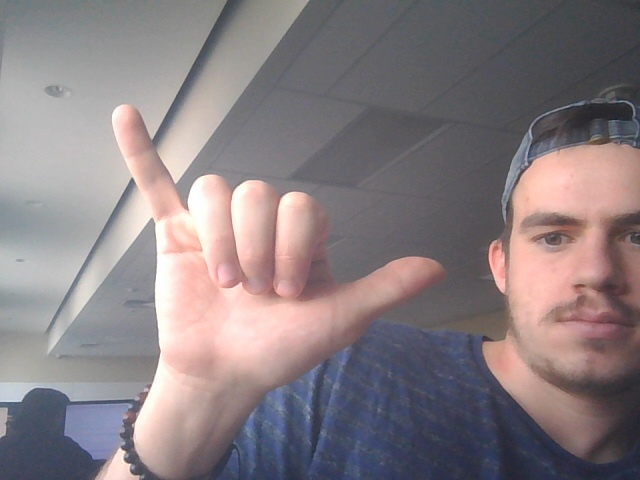birdsup: (96, 98, 458, 387)
